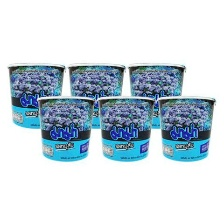paper_cup: (122, 58, 189, 135), (2, 57, 68, 132), (33, 93, 99, 166), (64, 57, 127, 133), (93, 93, 158, 165), (154, 92, 218, 165)
